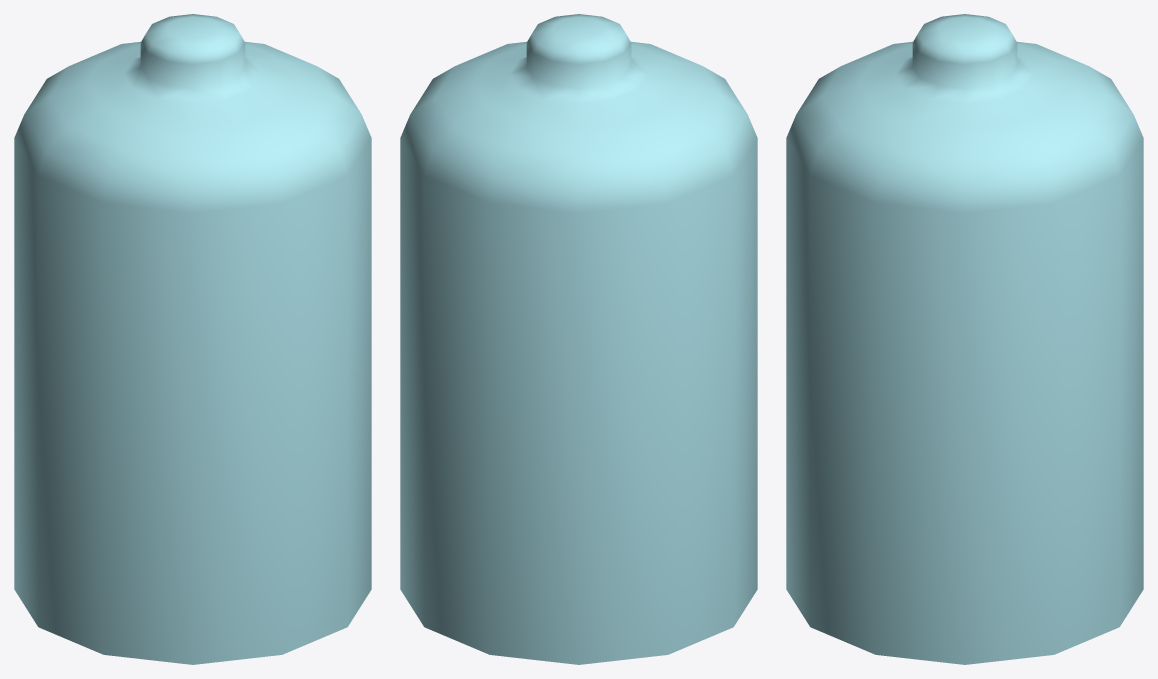
File: ClocheGlass1.fbx
3 renders of one model, left to right at view 1: azimuth 30°, elevation 25°; view 2: azimuth 150°, elevation 25°; view 3: azimuth 270°, elevation 25°, orthographic.
Visible parts, largest first — view 1: ClocheGlass1; view 2: ClocheGlass1; view 3: ClocheGlass1.
Boxes of the visible parts, x1,y1,x2,y2 form: ClocheGlass1: (14, 14, 371, 664); ClocheGlass1: (400, 14, 757, 664); ClocheGlass1: (786, 14, 1143, 664).
Bounding box in the file's own units: 19.8 × 34.33 × 19.8.
